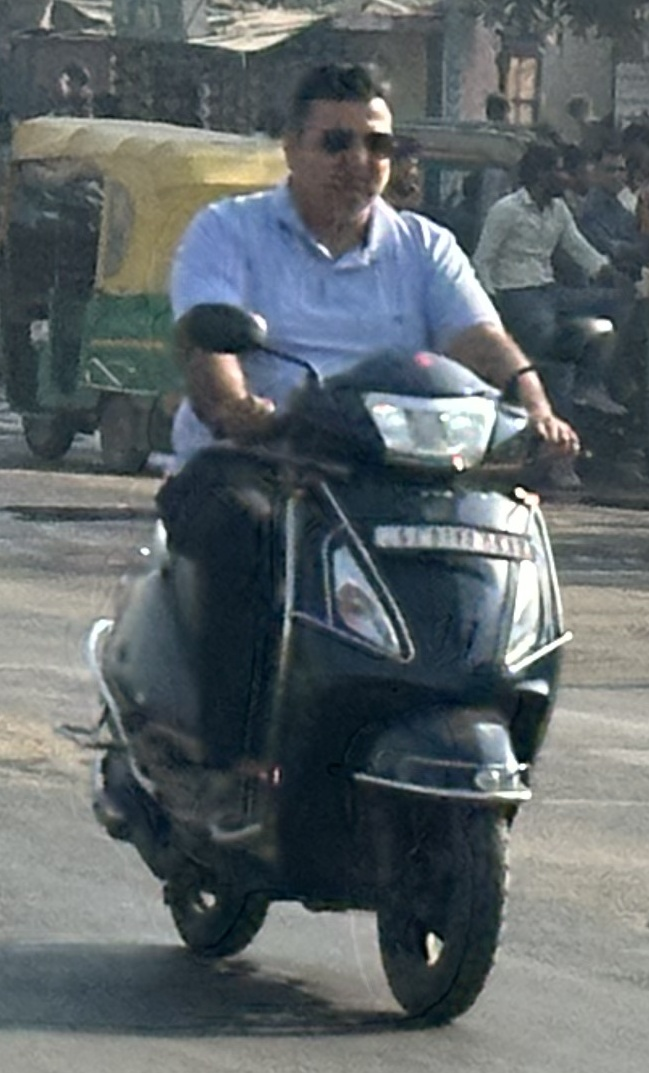BikeWithRider: (53, 55, 618, 1028)
NoHelmet: (286, 59, 411, 222)
